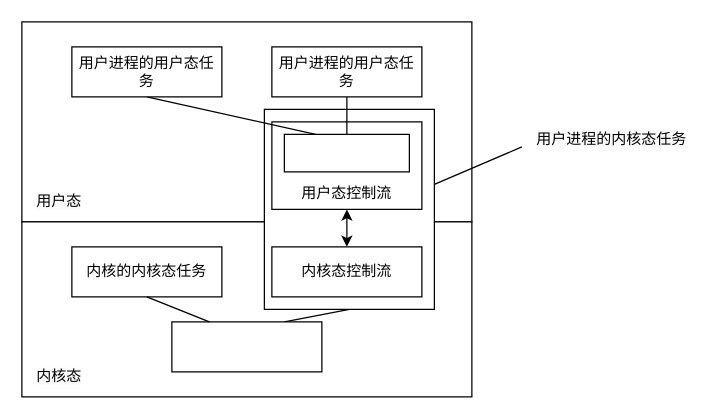
Image size: 719x419. Some labels were removed from this diagram. Here are the shapes that lost their labels. From the top down, the centre of each, then its label:
At (346,152): "用户调度器".
At (246,346): "内核调度器".
